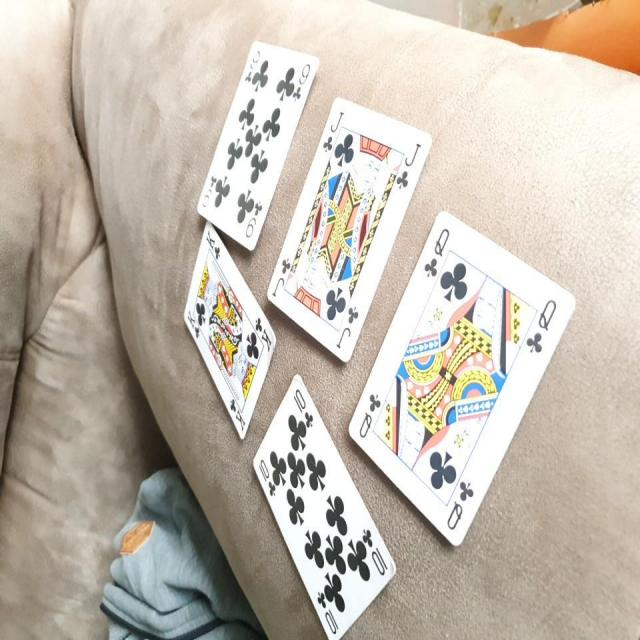10 Trefoils: (250, 375, 395, 638)
9 Trefoils: (195, 39, 322, 254)
J Trefoils: (264, 93, 434, 362)
K Trefoils: (184, 221, 278, 444)
Q Trefoils: (347, 210, 576, 548)
